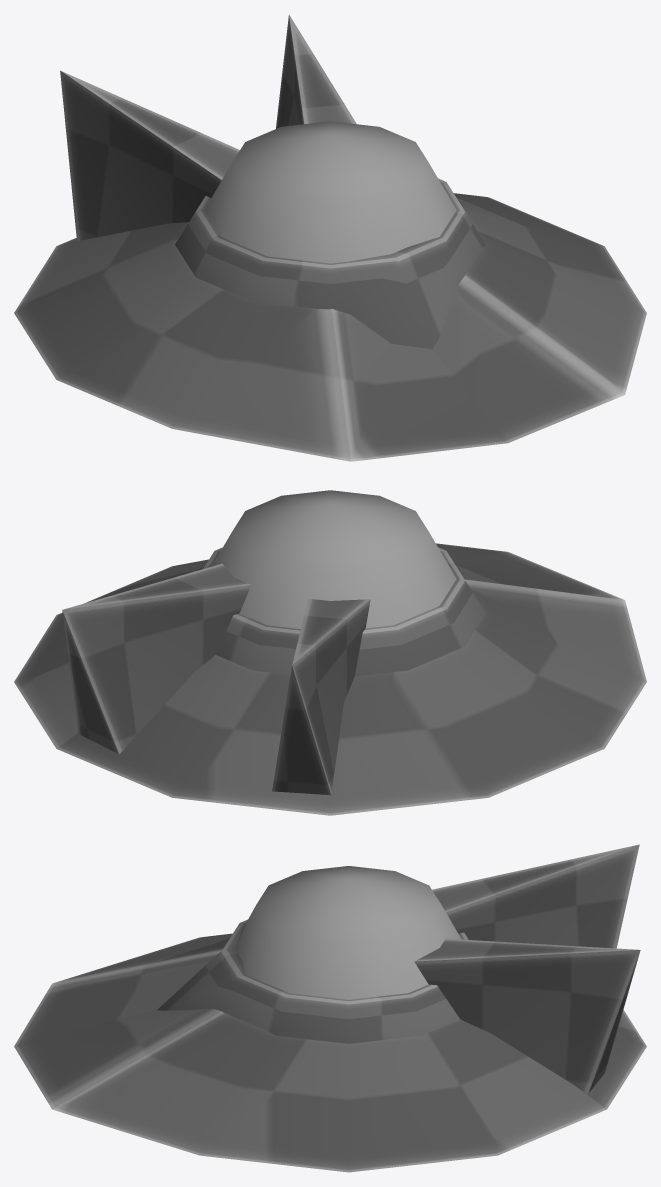
Rendered from flyingSaucer120.FBX.
3 renders of one model, top to bottom at view 1: azimuth 30°, elevation 25°; view 2: azimuth 150°, elevation 25°; view 3: azimuth 270°, elevation 25°, orthographic. The views are drawn at different scales.
Parts seen in each view (by area): view 1: flyingSaucer; view 2: flyingSaucer; view 3: flyingSaucer.
Boxes of the visible parts, box(x1,y1,x2,y2) form: flyingSaucer: box(14, 14, 646, 461); flyingSaucer: box(14, 490, 646, 815); flyingSaucer: box(14, 844, 646, 1172).
Size of the model in its own units: 107 by 33.25 by 114.
